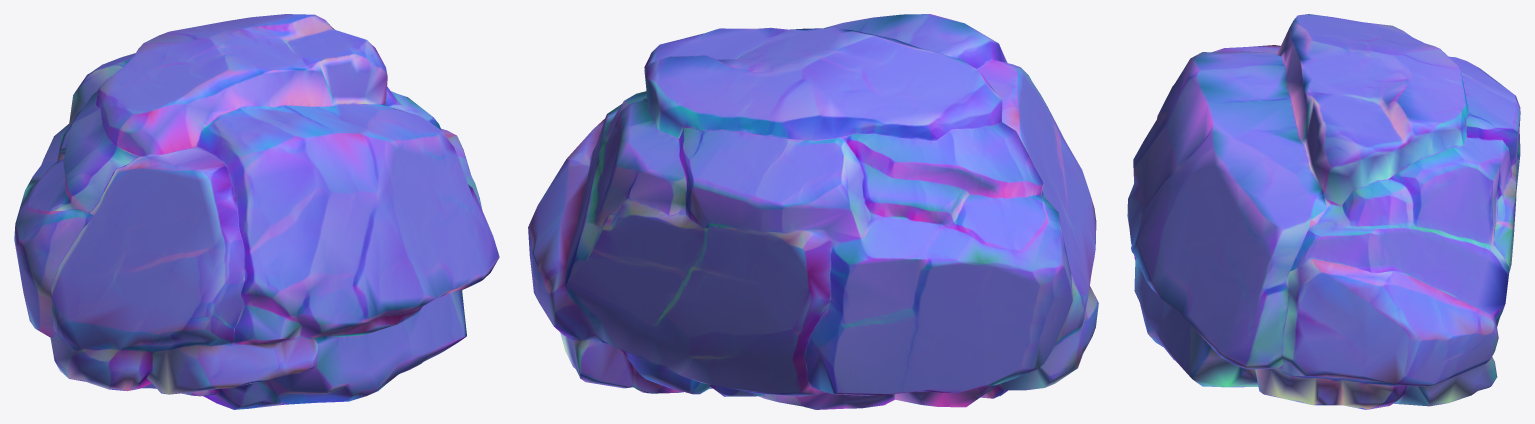
The model's file is Boulder04.fbx.
3 views of the same model, side by side, from view 1: azimuth 30°, elevation 25°; view 2: azimuth 150°, elevation 25°; view 3: azimuth 270°, elevation 25° (orthographic). The views are drawn at different scales.
Visible parts, largest first — view 1: Boulder04_LOD0; view 2: Boulder04_LOD0; view 3: Boulder04_LOD0.
Part boxes in pixels (box(x1,y1,x2,y2)): Boulder04_LOD0: box(14, 14, 499, 409); Boulder04_LOD0: box(528, 14, 1098, 409); Boulder04_LOD0: box(1127, 14, 1520, 409).
Size of what is drawn, in the model's own units: 331 by 207 by 264.
